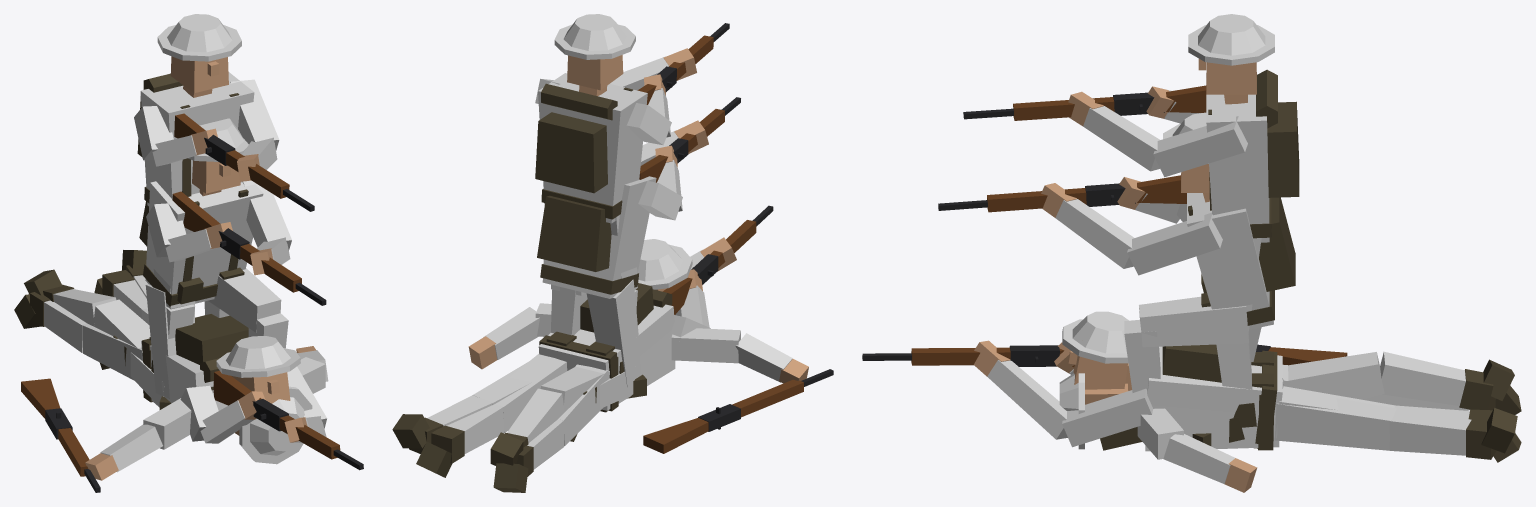
File: soldier.glb
The picture shows the model from 3 angles, left to right: view 1: azimuth 30°, elevation 25°; view 2: azimuth 150°, elevation 25°; view 3: azimuth 270°, elevation 25°; orthographic projection. The views are drawn at different scales.
Parts seen in each view (by area): view 1: Crouched, Prone, Standing, Dead; view 2: Standing, Dead, Prone, Crouched; view 3: Crouched, Dead, Standing, Prone.
Boxes of the visible parts, x1,y1,x2,y2 form: Crouched: [100, 118, 326, 406]; Prone: [14, 270, 363, 470]; Standing: [134, 14, 314, 372]; Dead: [21, 250, 328, 492]; Standing: [535, 14, 729, 373]; Dead: [392, 303, 833, 465]; Prone: [416, 205, 773, 492]; Crouched: [537, 97, 740, 441]; Crouched: [938, 112, 1295, 450]; Dead: [1059, 344, 1517, 492]; Standing: [963, 14, 1299, 442]; Prone: [862, 311, 1521, 462].
Size of the model in its own units: 1.46 by 1.83 by 2.61.
